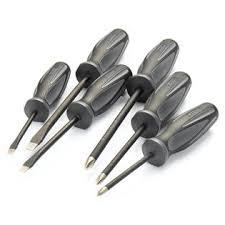screwdriver: (25, 27, 129, 150), (84, 37, 179, 168), (19, 63, 131, 170), (96, 101, 217, 196), (95, 70, 191, 185), (7, 60, 70, 153)
